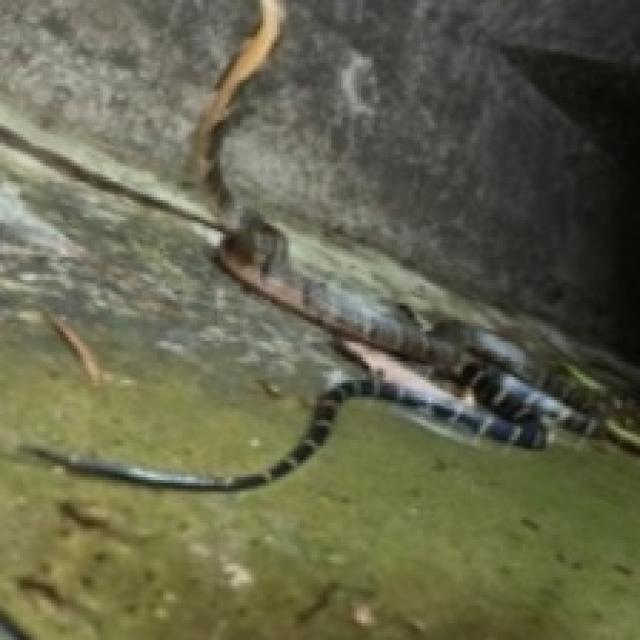king cobra: (223, 0, 637, 360), (0, 0, 251, 180)
